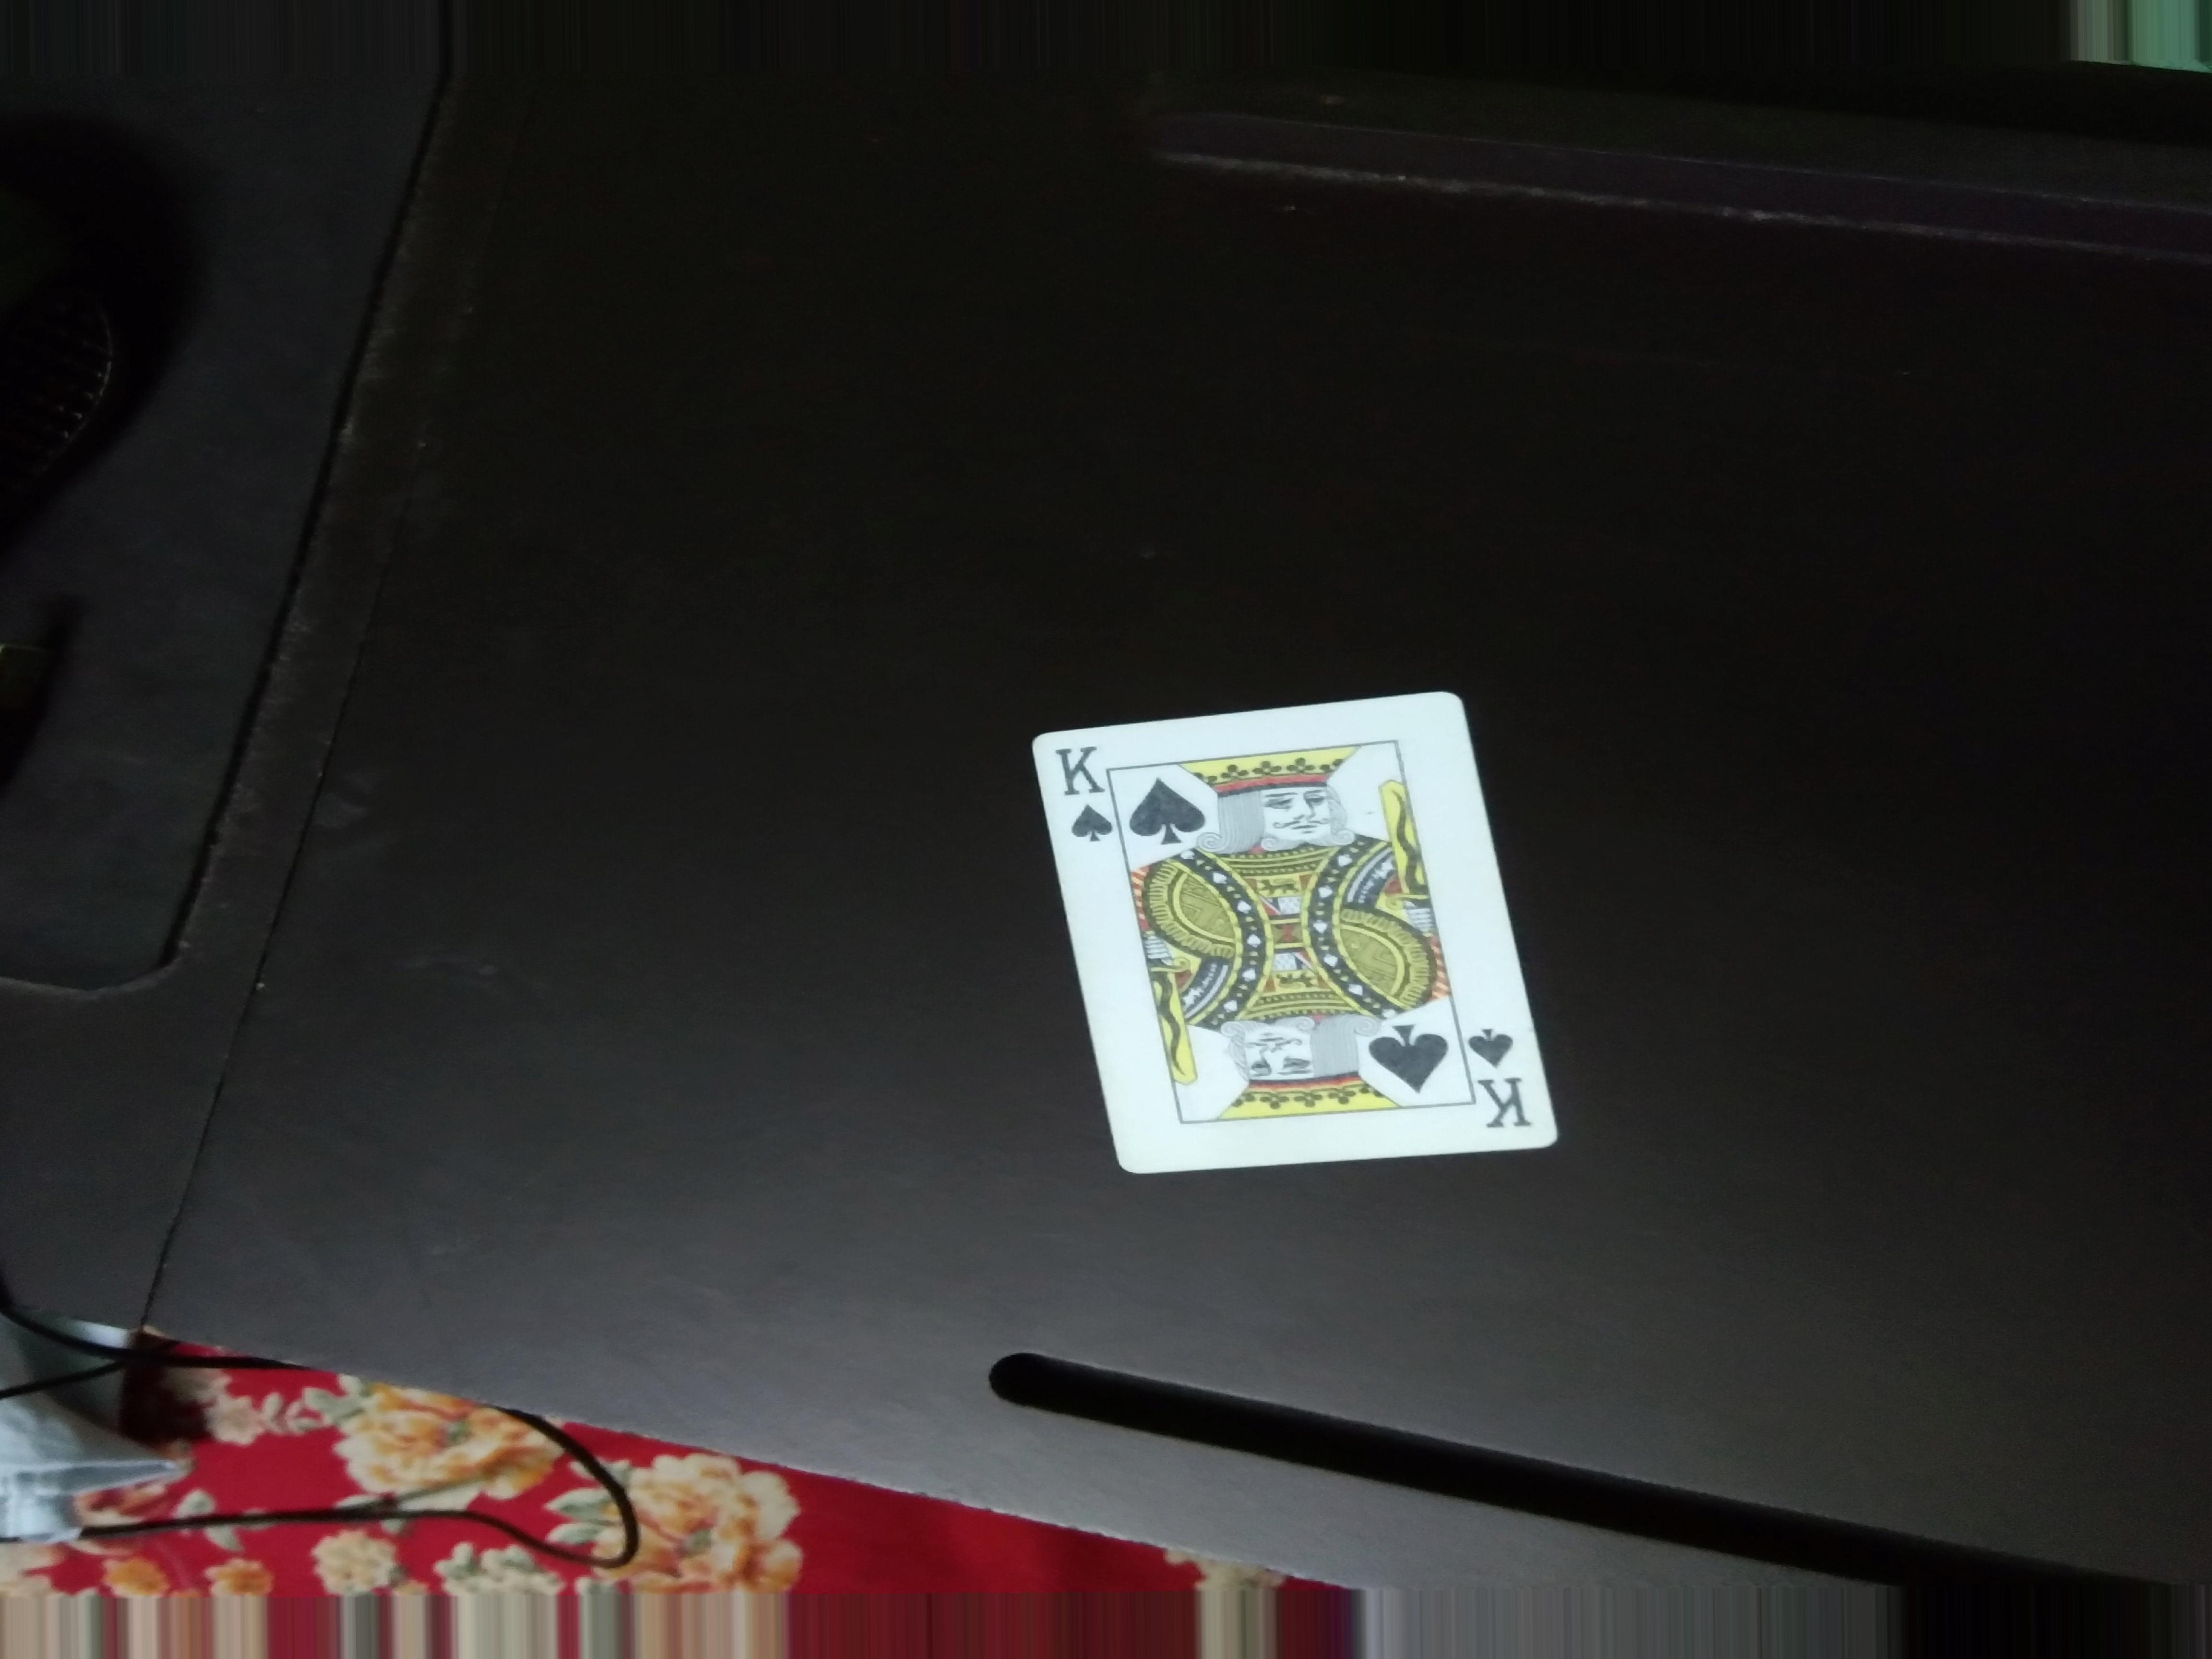KS: (1043, 741, 1113, 866)
